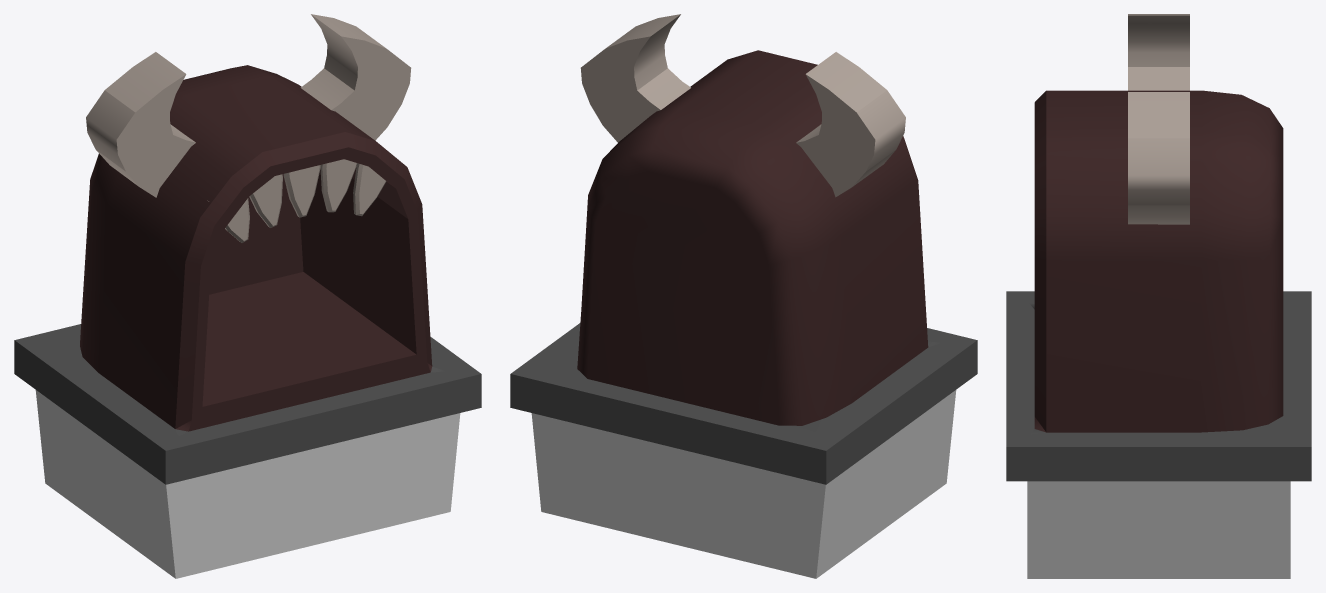
File: Stove 1.fbx
The picture shows the model from 3 angles, left to right: view 1: azimuth 30°, elevation 25°; view 2: azimuth 150°, elevation 25°; view 3: azimuth 270°, elevation 25°; orthographic projection.
Visible parts, largest first — view 1: pPlane6; view 2: pPlane6; view 3: pPlane6.
Part boxes in pixels (left/top/right/bottom): pPlane6: left=14, top=14, right=481, bottom=578; pPlane6: left=510, top=14, right=977, bottom=578; pPlane6: left=1006, top=14, right=1311, bottom=578.
Bounding box in the file's own units: 1.2 × 1.64 × 0.9936.
